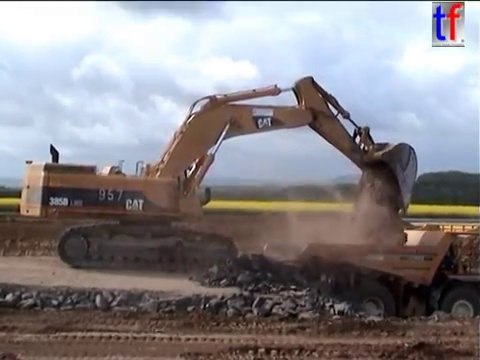excavator: (17, 73, 422, 274)
truck: (260, 220, 480, 337)
